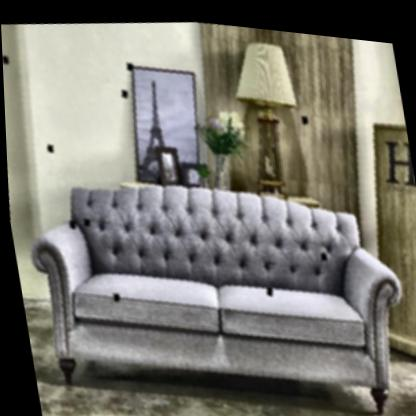Sofa: (22, 147, 403, 416)
